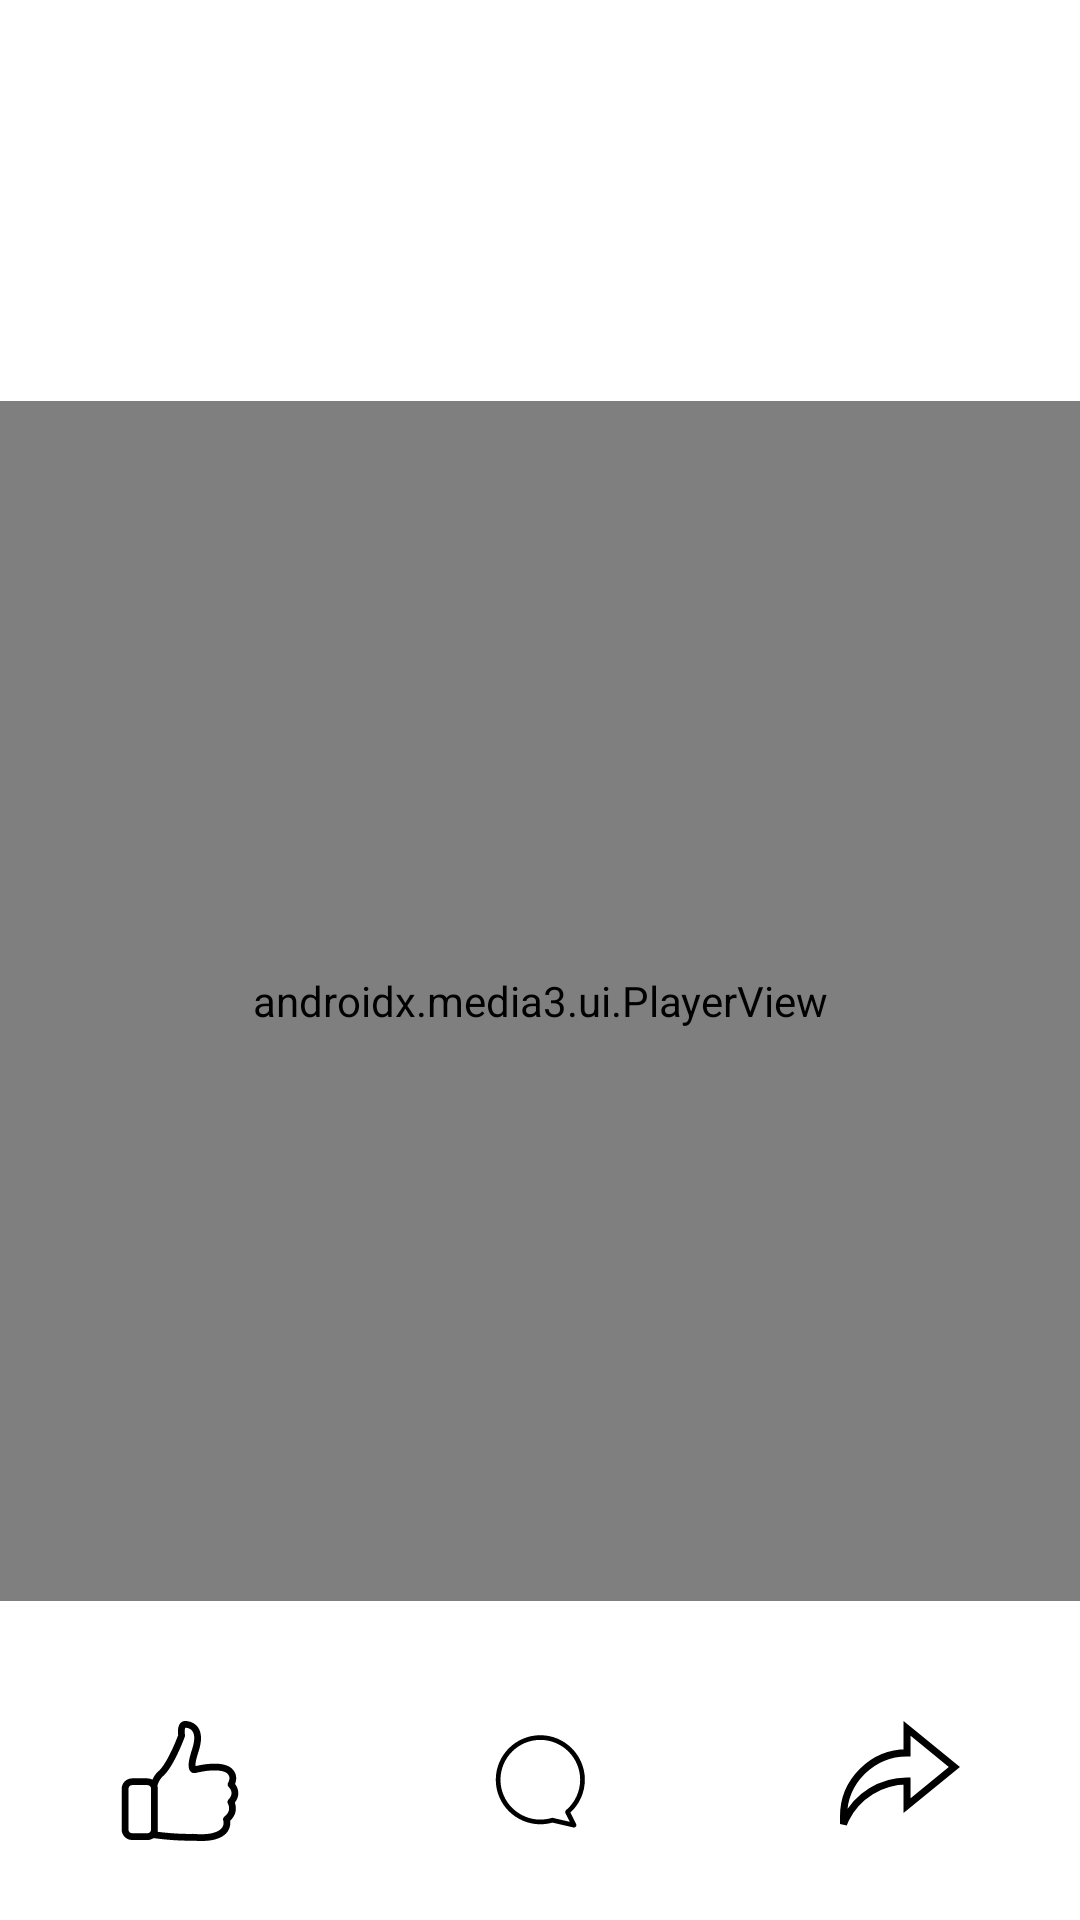

Screen size 1080×1920. Icon name, then its center in pixels as [x,y]:
comment: [540,1781]
like: [180,1781]
